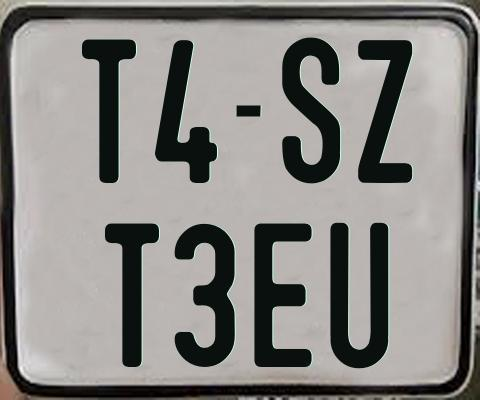3: (172, 222, 238, 365)
4: (152, 38, 218, 186)
E: (252, 223, 310, 373)
S: (282, 35, 343, 184)
T: (80, 36, 136, 180), (104, 223, 159, 368)
U: (330, 221, 394, 367)
Z: (358, 40, 412, 188)
